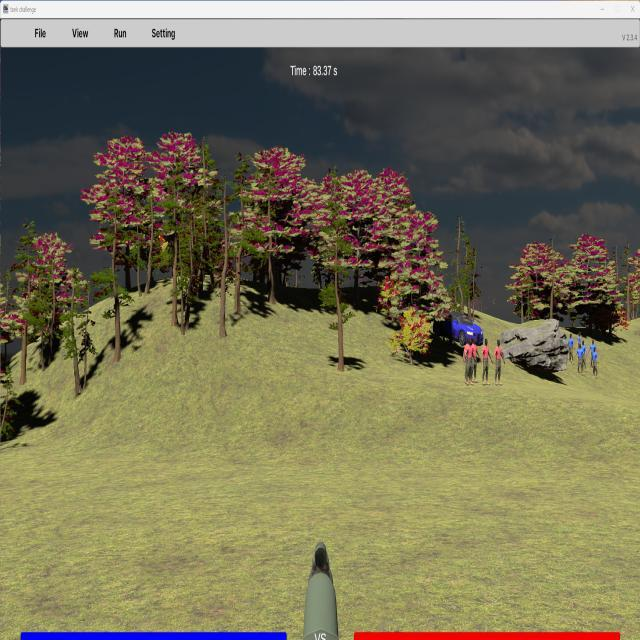Human: (462, 338, 474, 386), (493, 339, 505, 386), (481, 337, 493, 384), (468, 338, 480, 384)
car: (431, 310, 483, 347)
